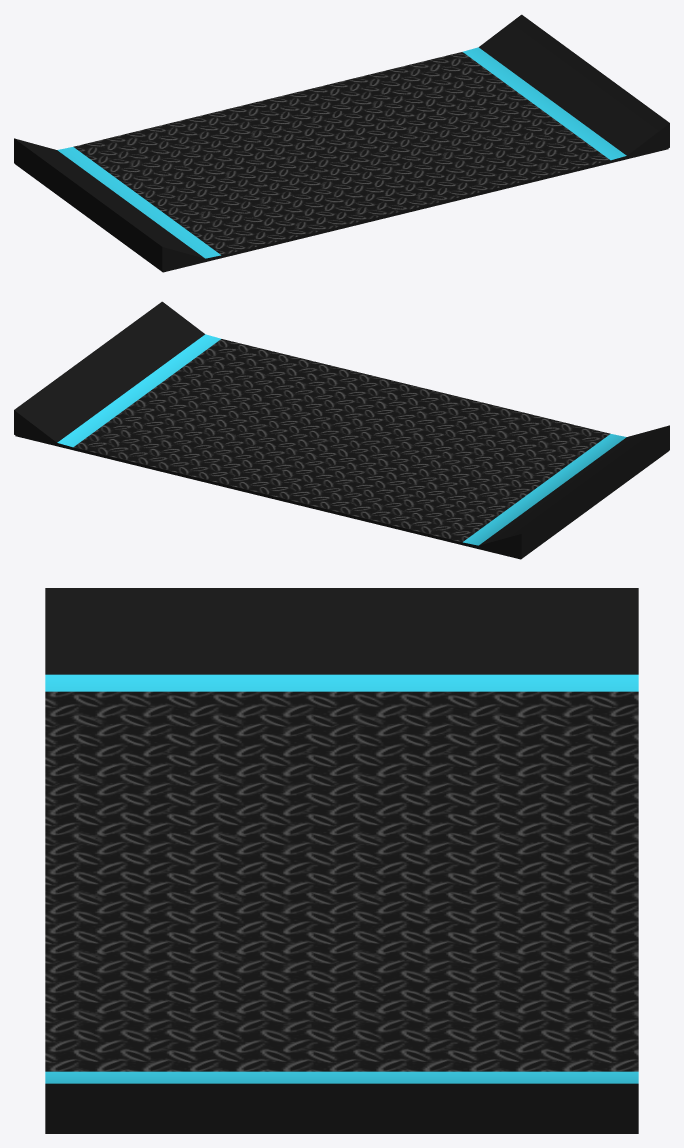
Rendered from floor.fbx.
3 views of the same model, one above another, from view 1: azimuth 30°, elevation 25°; view 2: azimuth 150°, elevation 25°; view 3: azimuth 270°, elevation 25° (orthographic). The views are drawn at different scales.
Parts seen in each view (by area): view 1: pCube1, pCube9, pCube8; view 2: pCube1, pCube9, pCube8; view 3: pCube1, pCube8, pCube9.
Part boxes in pixels (x1,y1,x2,y2): pCube1: (15, 52, 668, 272); pCube9: (462, 14, 669, 163); pCube8: (14, 138, 225, 271); pCube1: (15, 339, 668, 559); pCube9: (14, 301, 221, 450); pCube8: (458, 425, 669, 558); pCube1: (45, 691, 638, 1133); pCube8: (45, 588, 638, 691); pCube9: (45, 1071, 638, 1132).
Size of the model in its own units: 13.44 by 0.653 by 6.8.
